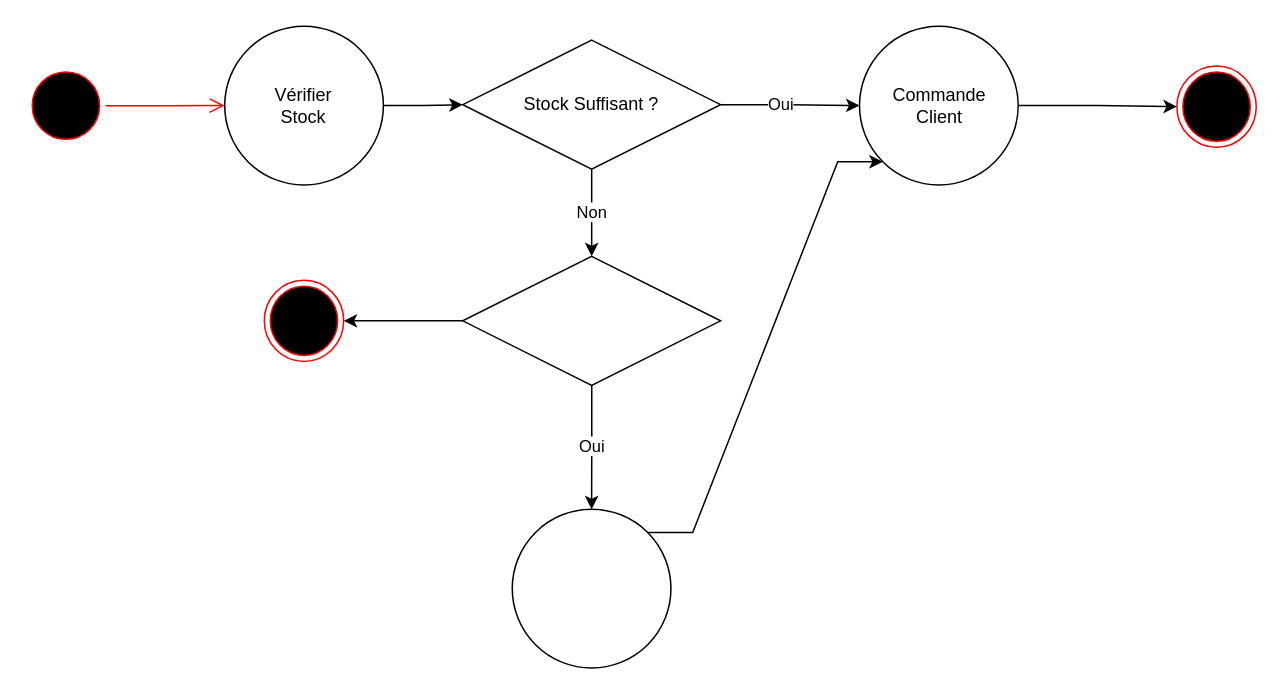
Image size: 1283x695. Some labels were removed from this diagram. The centre of each missing label's shape, as x and y in pixels:
Commande Fournisseur: (x=591, y=588)
Restockage ?: (x=591, y=320)
